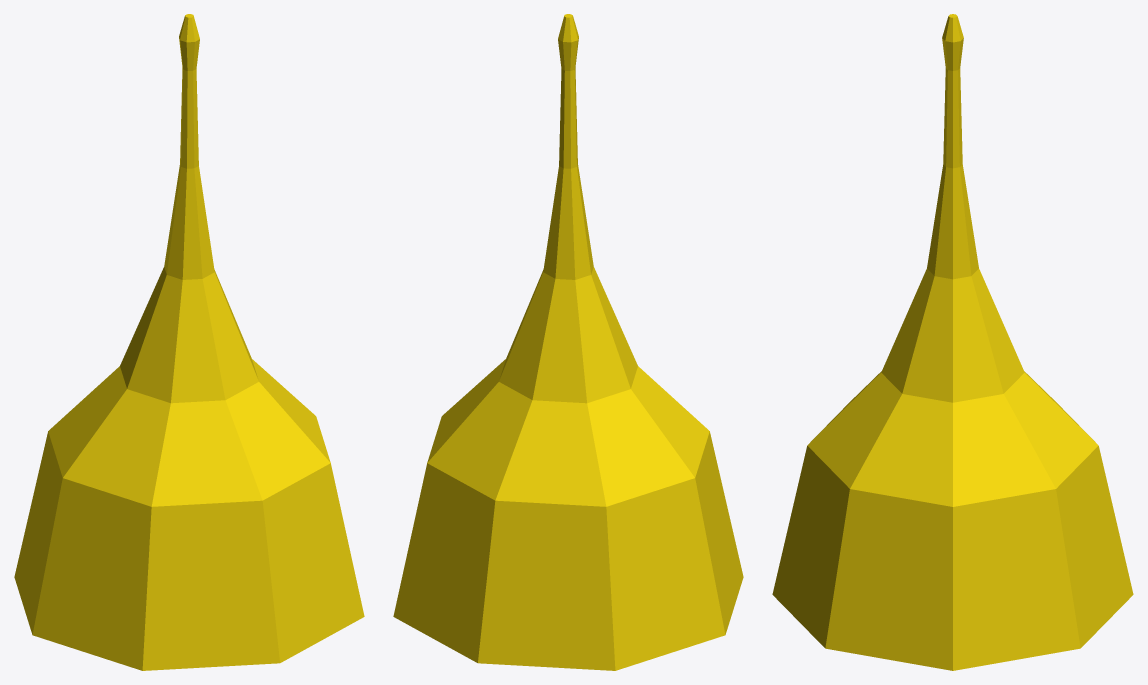
File: Polycube_58.FBX
The picture shows the model from 3 angles, left to right: view 1: azimuth 30°, elevation 25°; view 2: azimuth 150°, elevation 25°; view 3: azimuth 270°, elevation 25°; orthographic projection.
Visible parts, largest first — view 1: Polycube_58; view 2: Polycube_58; view 3: Polycube_58.
Part boxes in pixels (x1=…): Polycube_58: x1=14, y1=14, x2=364, y2=670; Polycube_58: x1=393, y1=14, x2=743, y2=670; Polycube_58: x1=772, y1=14, x2=1133, y2=670.
Size of the model in its own units: 3.99 by 7.05 by 3.99.
